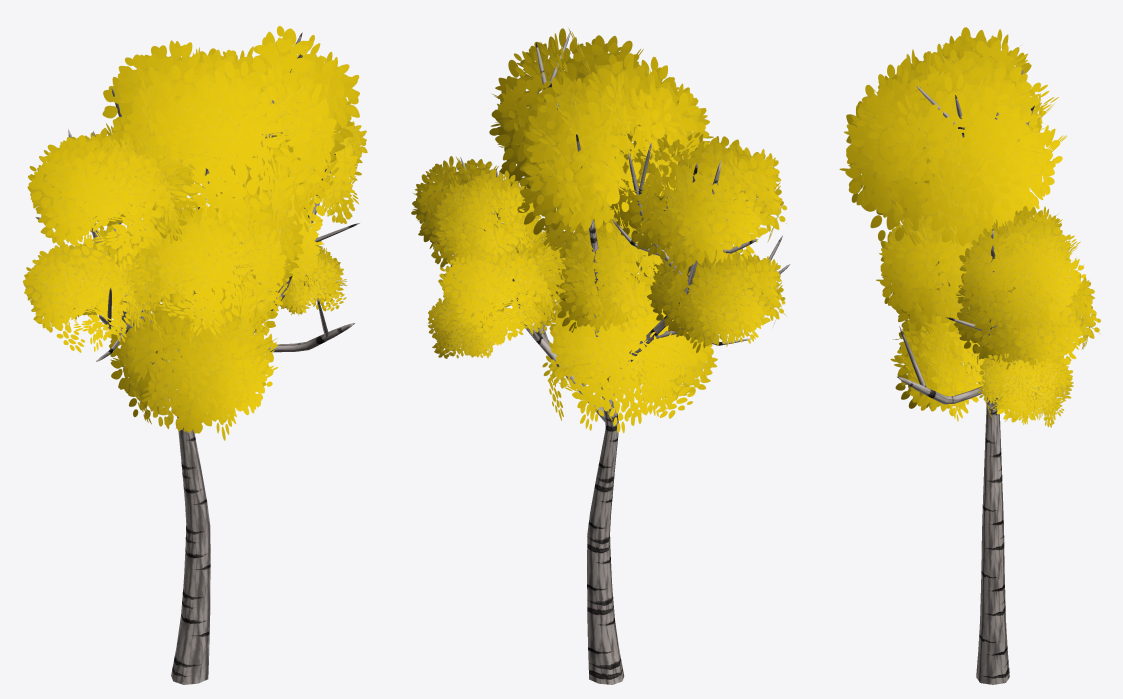
File: BirchTree_3.glb
The picture shows the model from 3 angles, left to right: view 1: azimuth 30°, elevation 25°; view 2: azimuth 150°, elevation 25°; view 3: azimuth 270°, elevation 25°; orthographic projection. The views are drawn at different scales.
Visible parts, largest first — view 1: BirchTree_3; view 2: BirchTree_3; view 3: BirchTree_3.
Part boxes in pixels (x1,y1,x2,y2): BirchTree_3: [23, 26, 367, 684]; BirchTree_3: [411, 28, 790, 684]; BirchTree_3: [839, 27, 1100, 684].
Bounding box in the file's own units: 3.43 × 5.75 × 2.27.
2 materials, 2 textured.
